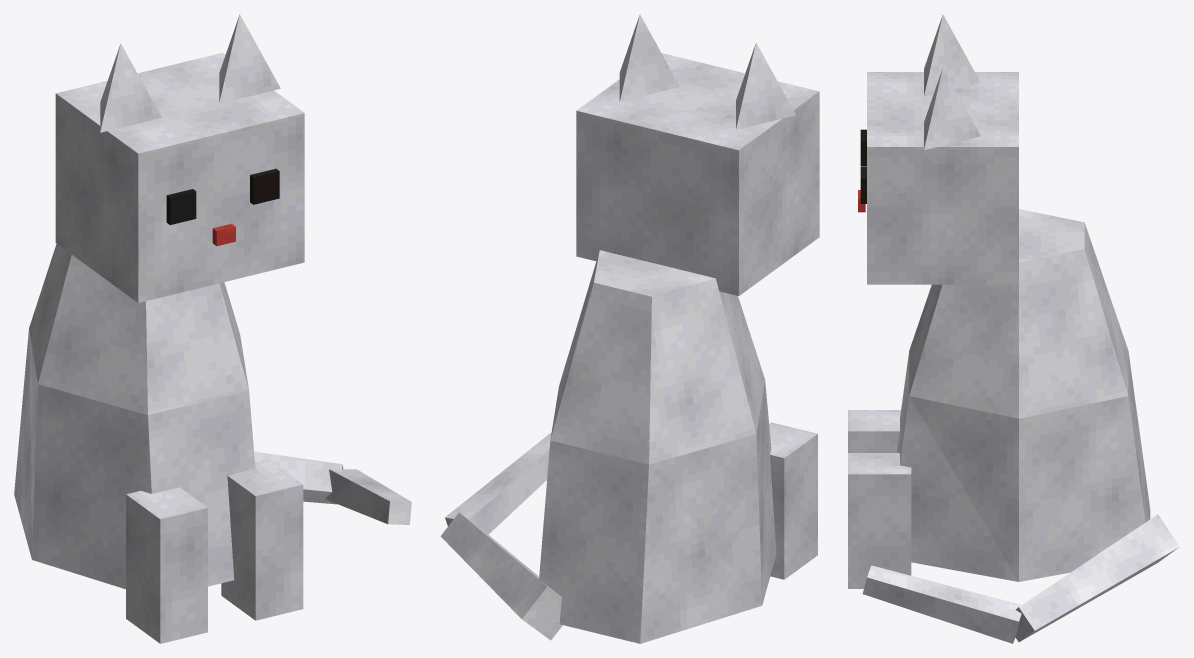
The model's file is gato.obj.
3 views of the same model, side by side, from view 1: azimuth 30°, elevation 25°; view 2: azimuth 150°, elevation 25°; view 3: azimuth 270°, elevation 25° (orthographic). The views are drawn at different scales.
Visible parts, largest first — view 1: gato; view 2: gato; view 3: gato.
Boxes of the visible parts, x1=… form: gato: x1=14, y1=14, x2=411, y2=643; gato: x1=440, y1=14, x2=819, y2=643; gato: x1=848, y1=14, x2=1179, y2=643.
Size of the model in its own units: 0.2733 by 0.45 by 0.2623.
3 materials, 3 textured.
